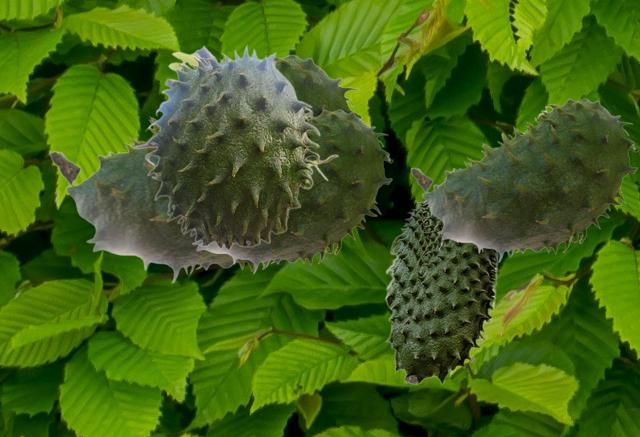guyabano: (49, 54, 366, 283), (134, 43, 338, 250), (410, 98, 637, 262), (191, 109, 392, 273), (384, 177, 498, 384)
